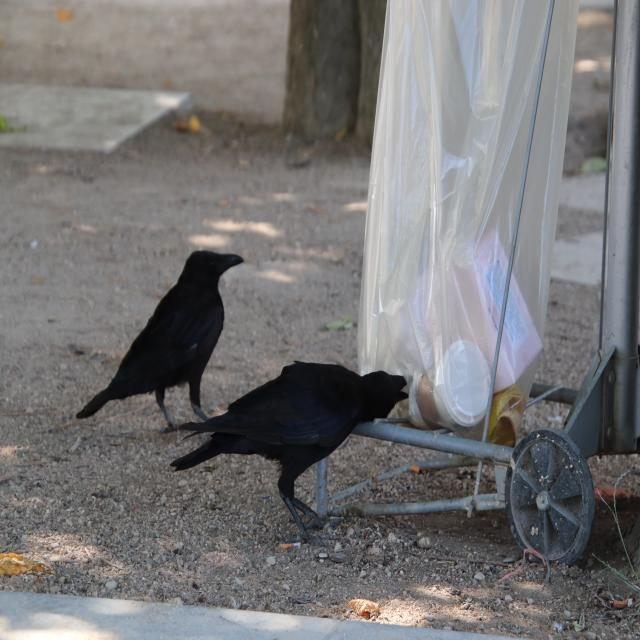plastic: (408, 339, 486, 440)
